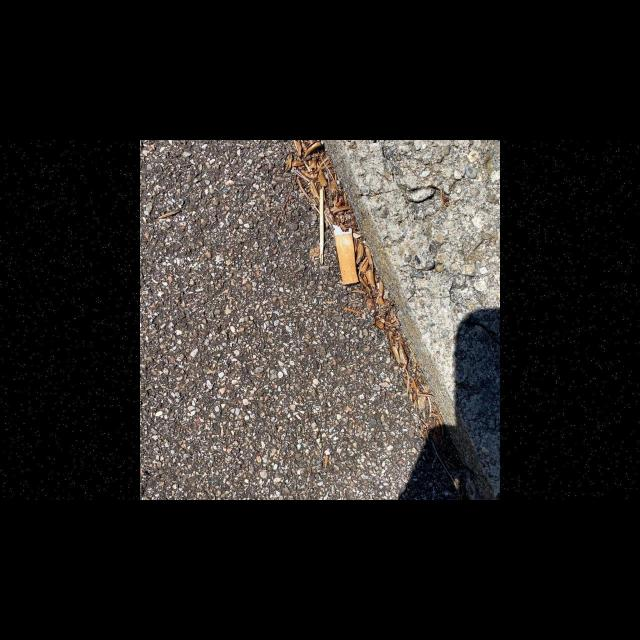cigarette: (331, 224, 359, 285)
